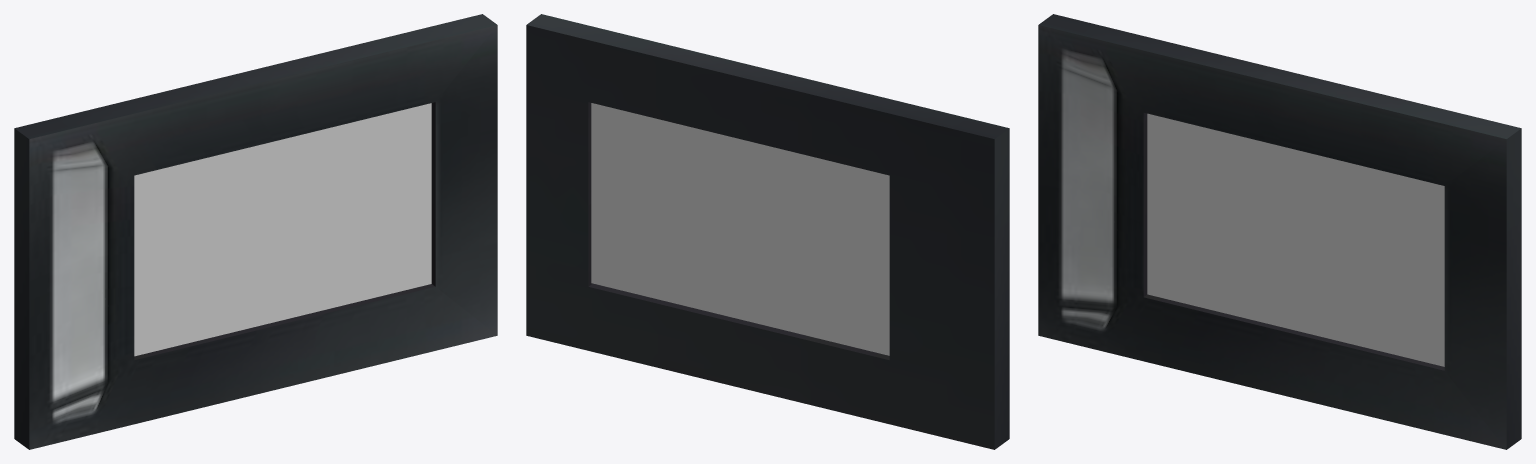
The model's file is Microwave_door_02.glb.
3 views of the same model, side by side, from view 1: azimuth 30°, elevation 25°; view 2: azimuth 150°, elevation 25°; view 3: azimuth 330°, elevation 25° (orthographic).
Parts seen in each view (by area): view 1: Microwave_door_02; view 2: Microwave_door_02; view 3: Microwave_door_02.
Part boxes in pixels (x1=…): Microwave_door_02: x1=14, y1=14, x2=497, y2=449; Microwave_door_02: x1=526, y1=14, x2=1009, y2=449; Microwave_door_02: x1=1038, y1=14, x2=1521, y2=449.
Bounding box in the file's own units: 0.5627 × 0.3568 × 0.0311.
2 materials, 1 textured.
